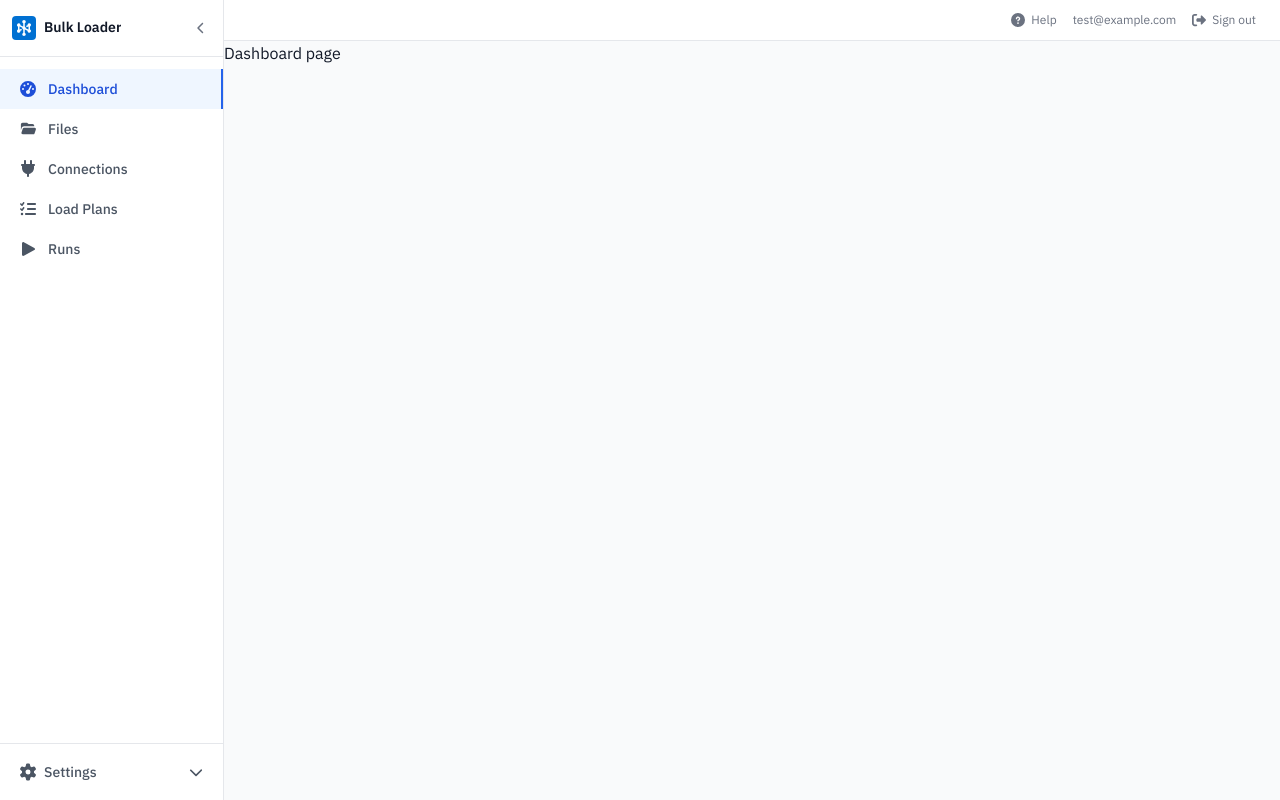
Scenario: AppShell › opens Theme submenu on click
Step 1. Click the button "Settings" → coordinates (112, 772), box [12,756,211,788]
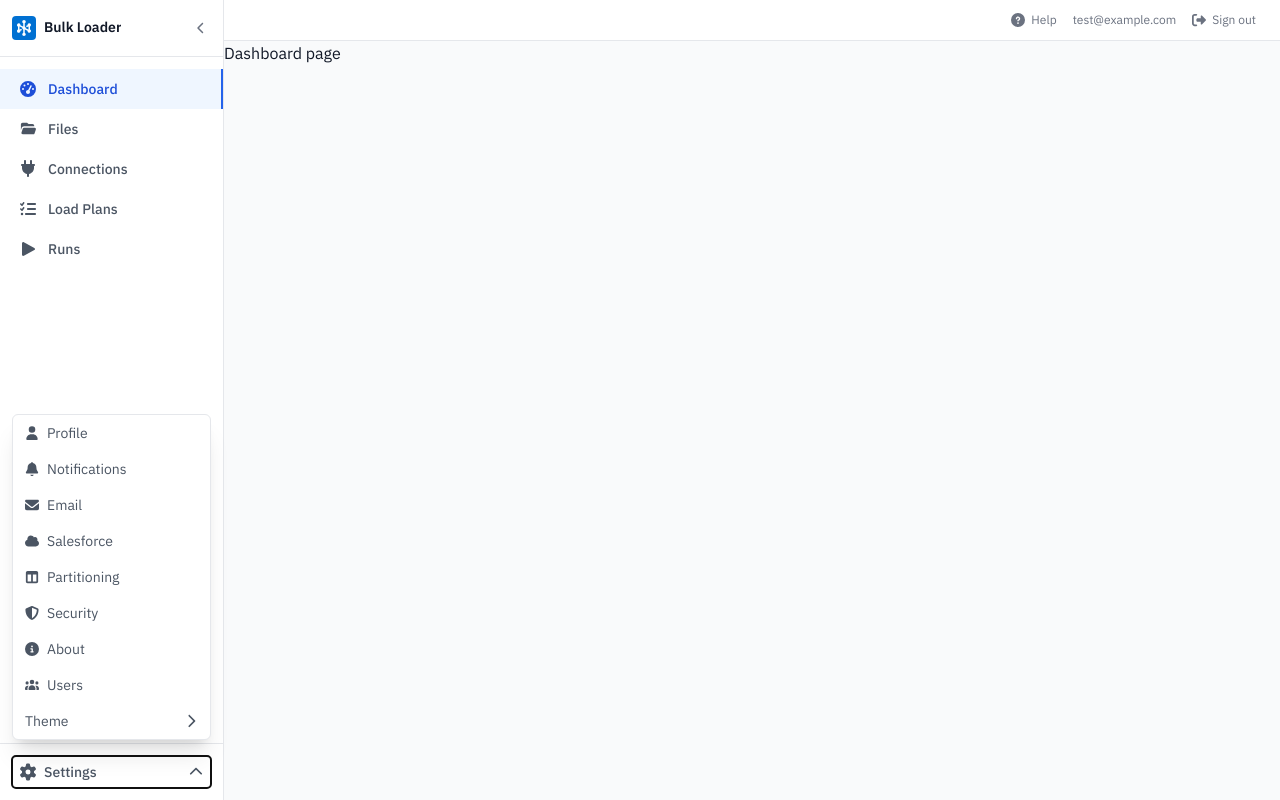
Step 2. Click the button "Theme" → coordinates (112, 721), box [13,703,210,739]
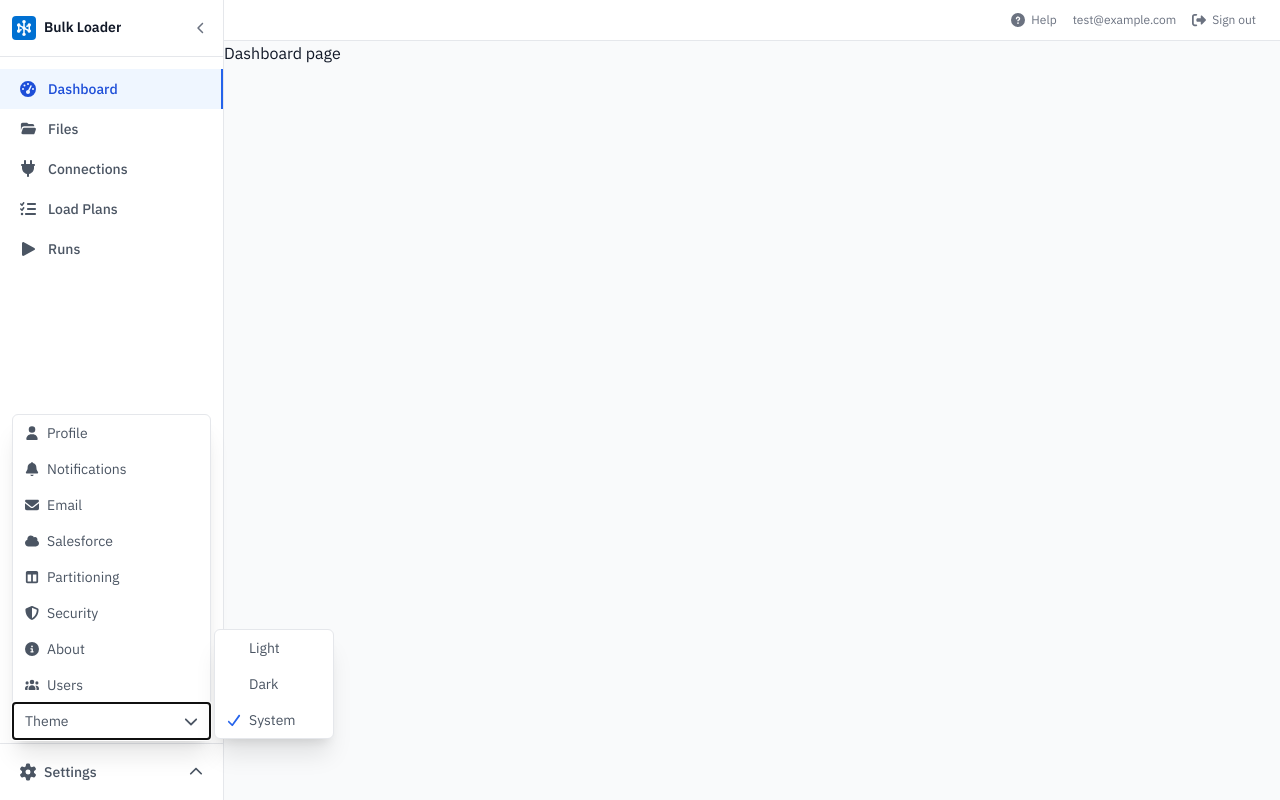
Now the menu item "Light" is shown, box [215,630,333,666]
Now the menu item "Dark" is shown, box [215,666,333,702]
Now the menu item "System" is shown, box [215,702,333,738]
